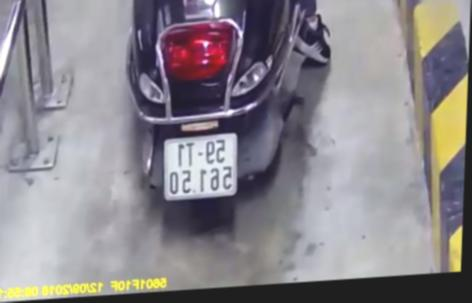License_Plate: (153, 126, 245, 211)
